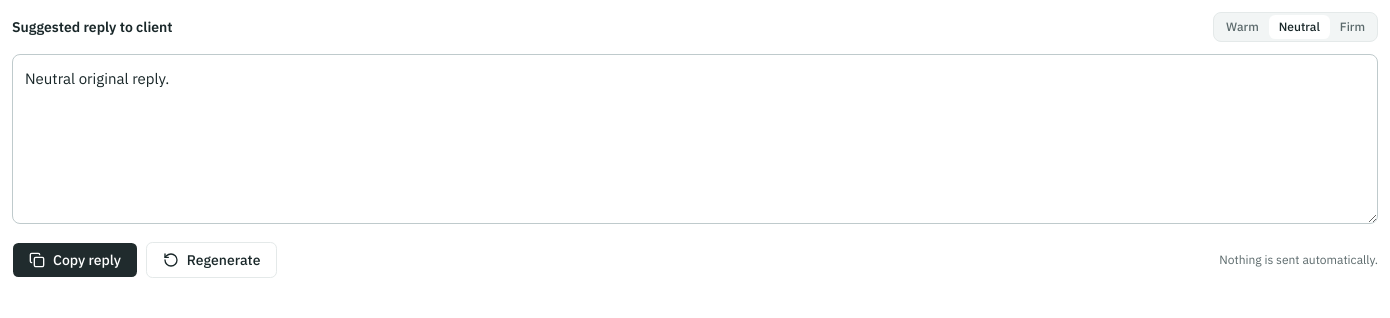
ClientReply regeneration › preserves the reply after failure and succeeds when retried
This screenshot has width=1390, height=318.
What coordinates should you click on to do the following:
click the button "Regenerate"
I would click on:
 (212, 260)
Its box is [146,242,278,278].
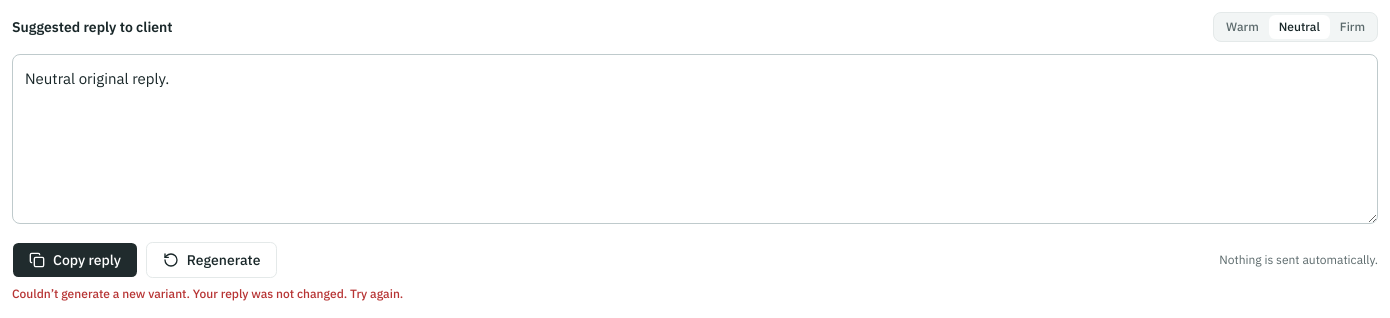
Expected: the text box named "Editable reply to client" holds "Neutral original reply.", [12,54,1378,224]
Now the message reads "Couldn’t generate a new variant. Your reply was not changed. Try again.", box [12,286,403,301]
What coordinates should you click on to do the following:
click the button "Regenerate"
I would click on:
 (212, 260)
Its box is [146,242,278,278].
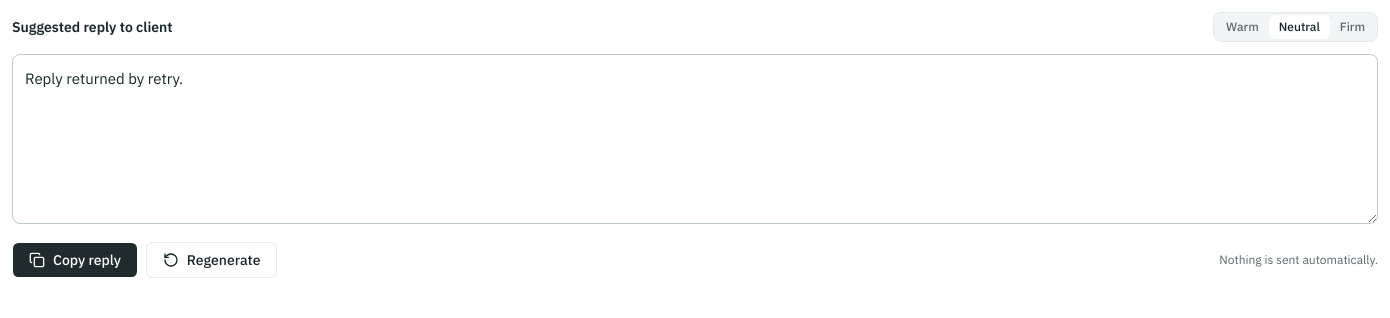
Now the text box named "Editable reply to client" holds "Reply returned by retry.", box [12,54,1378,224]
Now the message "Couldn’t generate a new variant. Your reply was not changed. Try again." is gone
